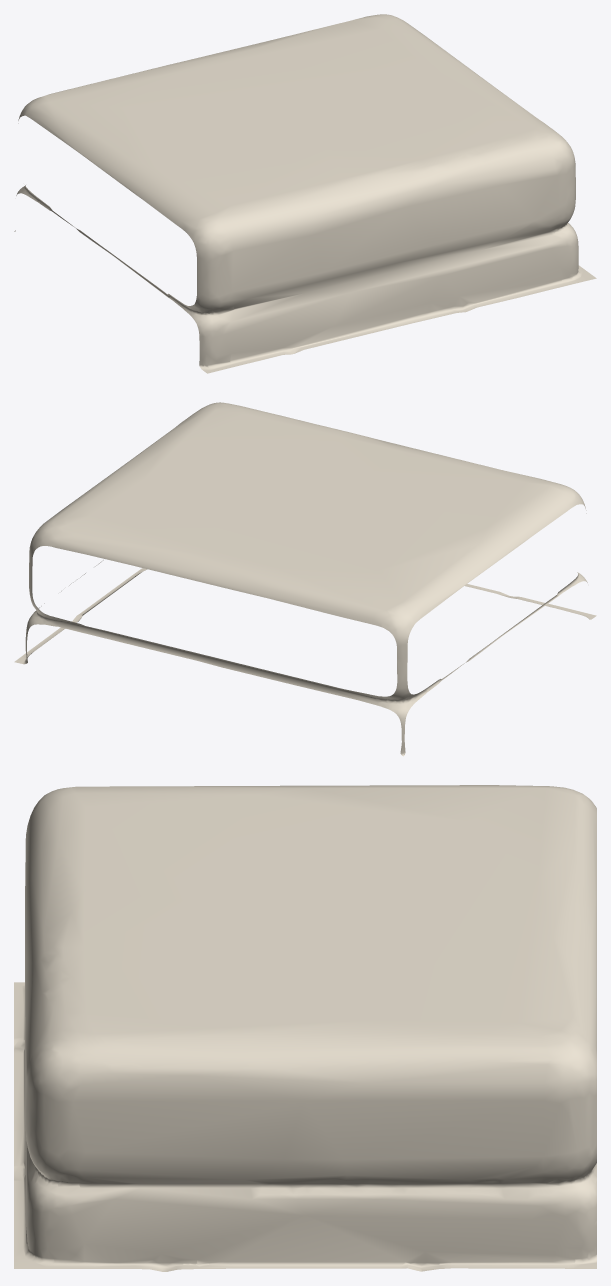
The model's file is kitchen_bench.glb.
The picture shows the model from 3 angles, top to bottom: view 1: azimuth 30°, elevation 25°; view 2: azimuth 150°, elevation 25°; view 3: azimuth 270°, elevation 25°; orthographic projection. The views are drawn at different scales.
Bounding box in the file's own units: 0.2066 × 0.0714 × 0.1775.
